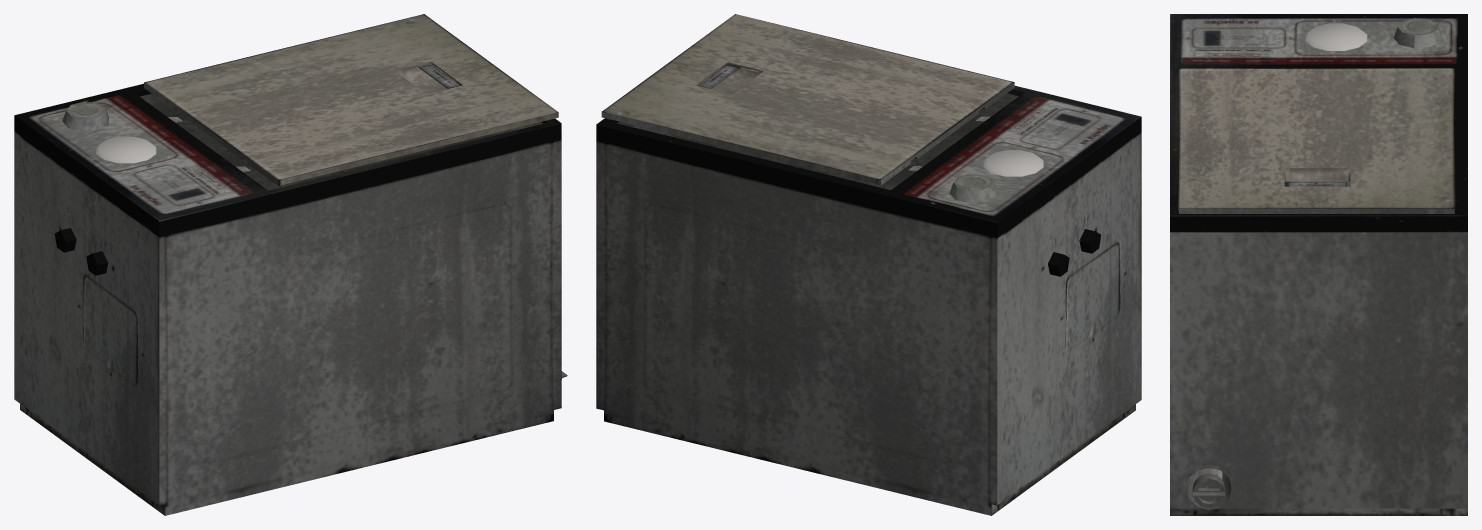
The model's file is soviet-washing-machine.fbx.
The picture shows the model from 3 angles, left to right: view 1: azimuth 30°, elevation 25°; view 2: azimuth 150°, elevation 25°; view 3: azimuth 270°, elevation 25°; orthographic projection. The views are drawn at different scales.
Visible parts, largest first — view 1: WashMachine, Hatch.001; view 2: WashMachine, Hatch.001; view 3: WashMachine, Hatch.001, Part.
Part boxes in pixels (x1,y1,x2,y2): WashMachine: (14, 83, 561, 515); Hatch.001: (144, 14, 558, 185); WashMachine: (596, 85, 1141, 515); Hatch.001: (601, 14, 1014, 185); WashMachine: (1170, 14, 1467, 515); Hatch.001: (1179, 68, 1454, 213); Part: (1192, 467, 1225, 508).
Bounding box in the file's own units: 171 × 117 × 99.89.
Materials: 2 (1 with a texture image).
